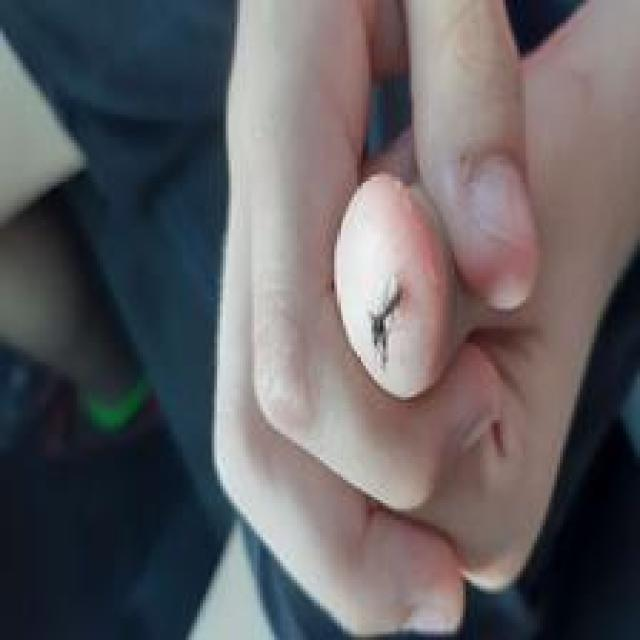Culex: (366, 273, 403, 373)
